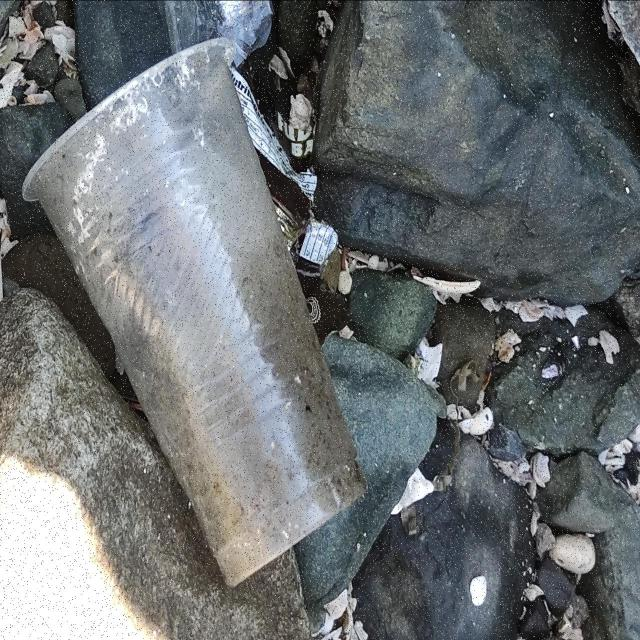plastic_waste: (21, 37, 371, 580)
